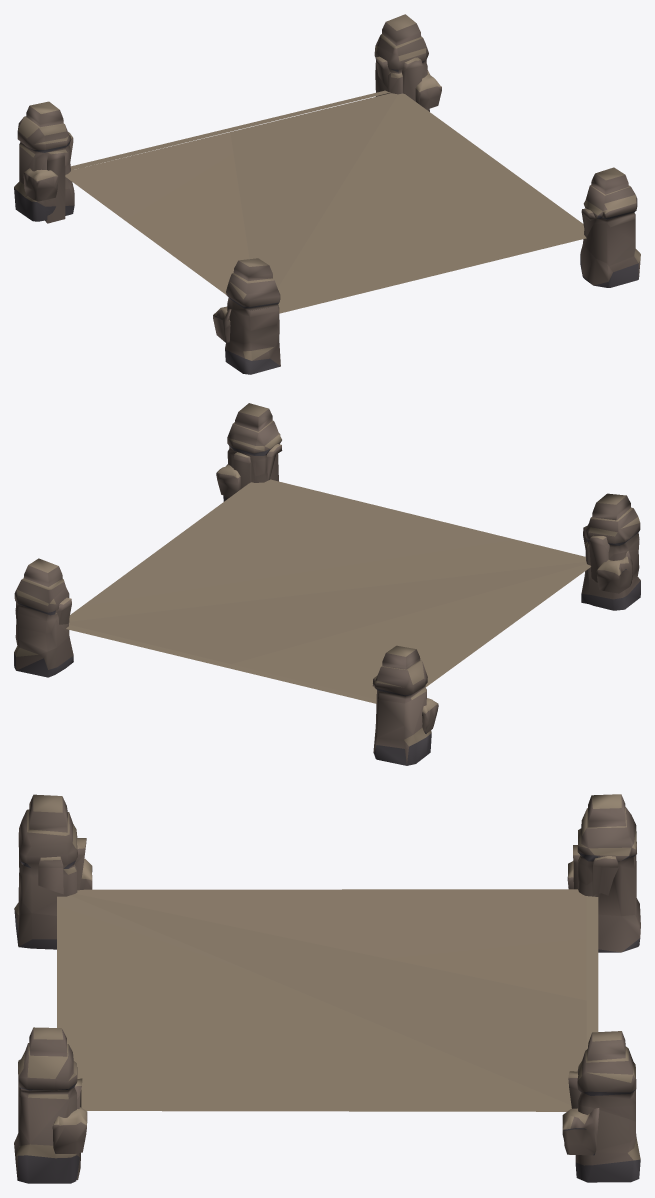
File: ring.glb
3 views of the same model, one above another, from view 1: azimuth 30°, elevation 25°; view 2: azimuth 150°, elevation 25°; view 3: azimuth 270°, elevation 25° (orthographic). The views are drawn at different scales.
Parts seen in each view (by area): view 1: Smart_ring; view 2: Smart_ring; view 3: Smart_ring.
Boxes of the visible parts, x1,y1,x2,y2 form: Smart_ring: (14, 14, 640, 374); Smart_ring: (14, 403, 640, 765); Smart_ring: (14, 794, 640, 1183).
Size of the model in its own units: 4 by 1 by 4.
